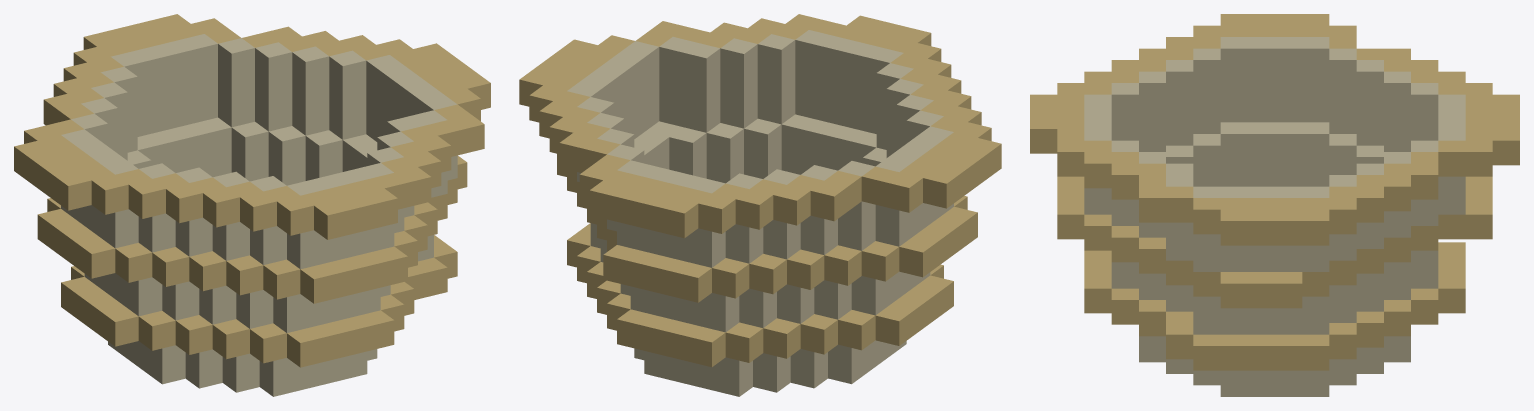
The model's file is Lustra.obj.
3 renders of one model, left to right at view 1: azimuth 30°, elevation 25°; view 2: azimuth 150°, elevation 25°; view 3: azimuth 270°, elevation 25°, orthographic.
Size of the model in its own units: 1.8 by 0.9 by 1.8.
Materials: 1 (1 with a texture image).
